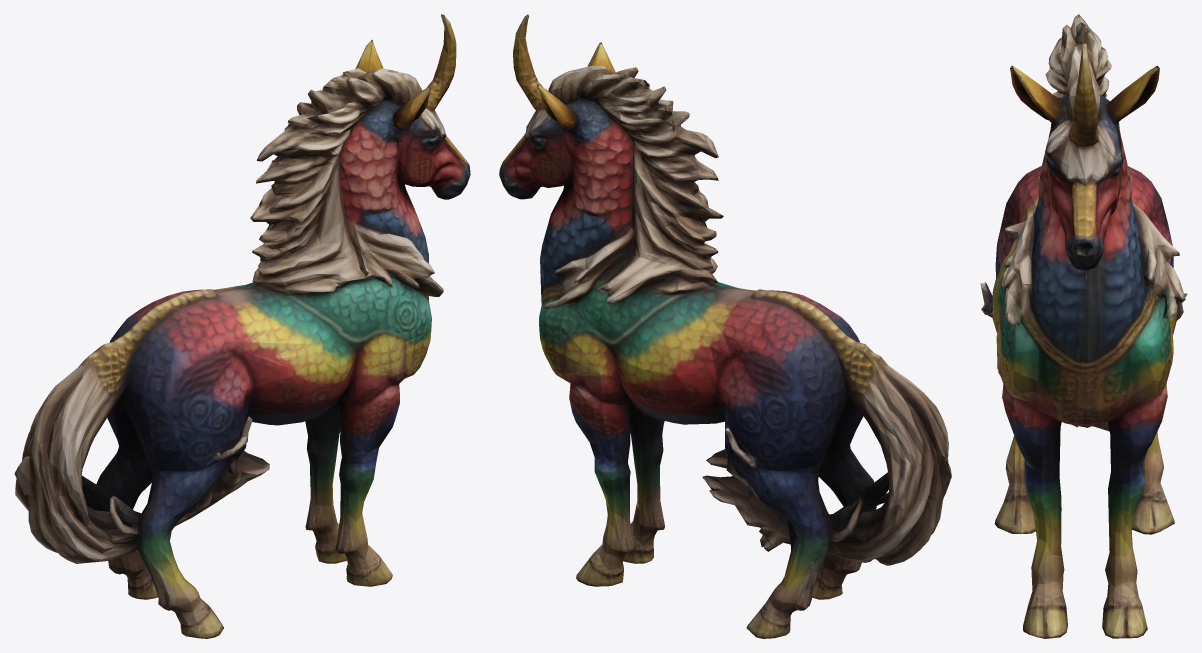
File: kirinth.glb
3 renders of one model, left to right at view 1: azimuth 30°, elevation 25°; view 2: azimuth 150°, elevation 25°; view 3: azimuth 270°, elevation 25°, orthographic. The views are drawn at different scales.
Parts seen in each view (by area): view 1: world; view 2: world; view 3: world.
Part boxes in pixels (x1,y1,x2,y2): world: [14, 14, 470, 638]; world: [499, 14, 951, 638]; world: [980, 14, 1187, 638].
Bounding box in the file's own units: 0.8894 × 0.9999 × 0.2953.
Materials: 1 (1 with a texture image).
